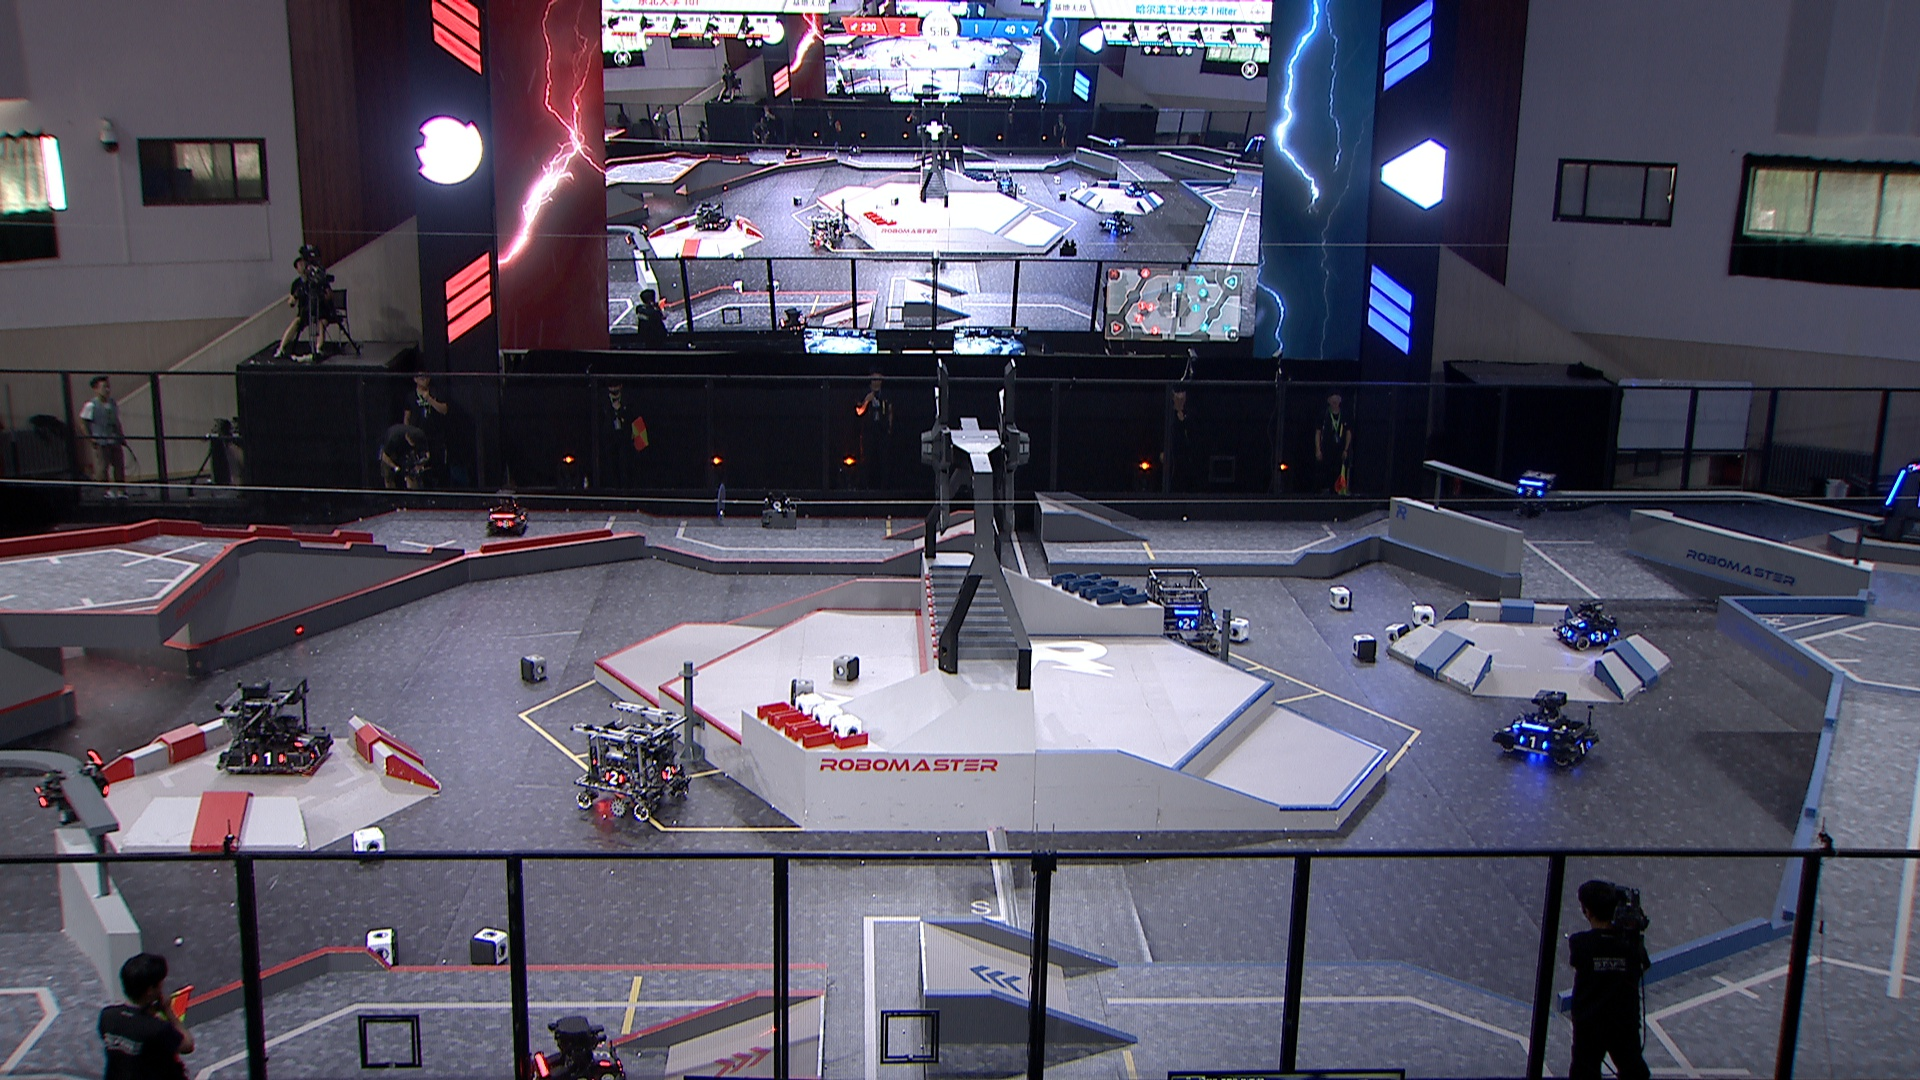armor: (1883, 469, 1907, 505), (1515, 733, 1549, 752), (591, 1044, 611, 1068), (253, 752, 285, 766), (603, 769, 624, 785), (1576, 737, 1592, 757), (1176, 616, 1196, 632), (661, 764, 678, 779), (295, 732, 311, 746), (1590, 628, 1605, 644), (310, 742, 323, 760), (1557, 626, 1575, 640), (1519, 487, 1542, 495), (1571, 616, 1586, 626), (529, 1068, 542, 1080), (498, 518, 513, 527)
base: (1865, 462, 1920, 543)
car: (567, 699, 692, 822), (210, 673, 334, 779), (1491, 688, 1602, 773), (1139, 566, 1224, 666), (516, 1017, 636, 1080), (1552, 595, 1619, 650), (485, 491, 534, 541)
ignore: (804, 210, 849, 248), (1233, 133, 1269, 167), (688, 202, 728, 232), (1101, 208, 1133, 243), (622, 222, 650, 252), (1102, 135, 1126, 156), (997, 171, 1015, 195), (1124, 179, 1145, 196), (782, 140, 802, 157)
watcher: (30, 746, 111, 823), (1510, 467, 1557, 520)
